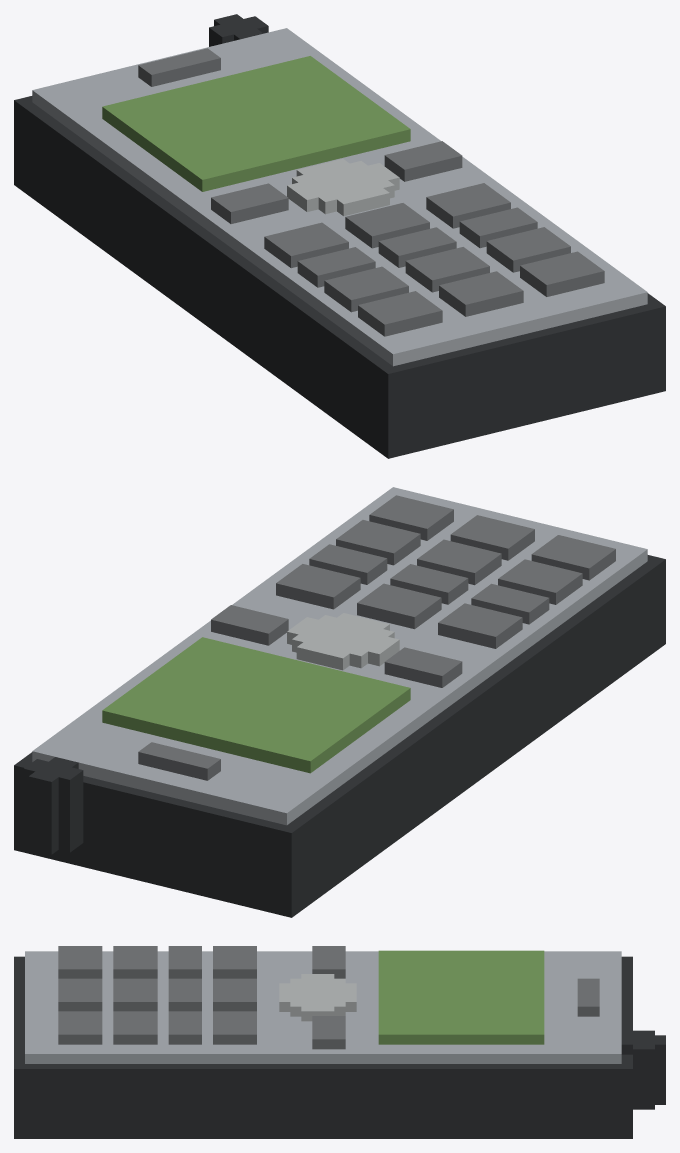
File: cell_phone.glb
3 views of the same model, one above another, from view 1: azimuth 30°, elevation 25°; view 2: azimuth 150°, elevation 25°; view 3: azimuth 270°, elevation 25° (orthographic). The views are drawn at different scales.
Visible parts, largest first — view 1: cell_phone:compound; view 2: cell_phone:compound; view 3: cell_phone:compound.
Boxes of the visible parts, x1=… form: cell_phone:compound: x1=14, y1=14, x2=665, y2=458; cell_phone:compound: x1=14, y1=487, x2=665, y2=917; cell_phone:compound: x1=14, y1=946, x2=665, y2=1138.
Size of the model in its own units: 0.048 by 0.018 by 0.118.
